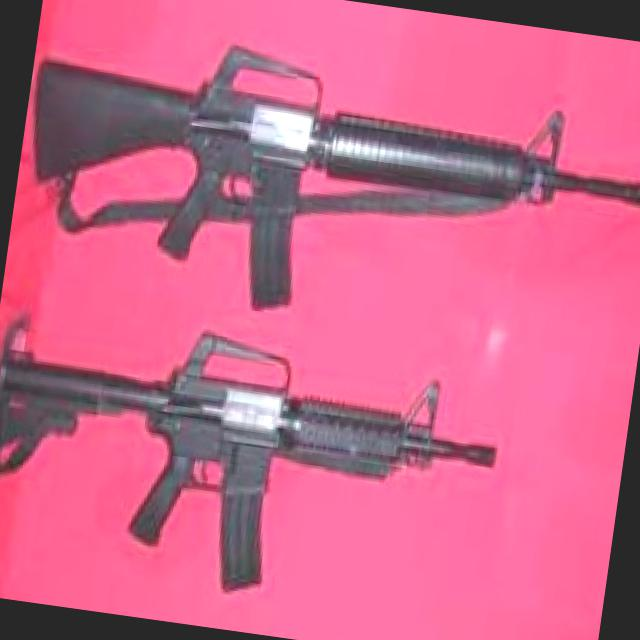long weapon: (5, 0, 639, 371), (0, 295, 545, 639)
